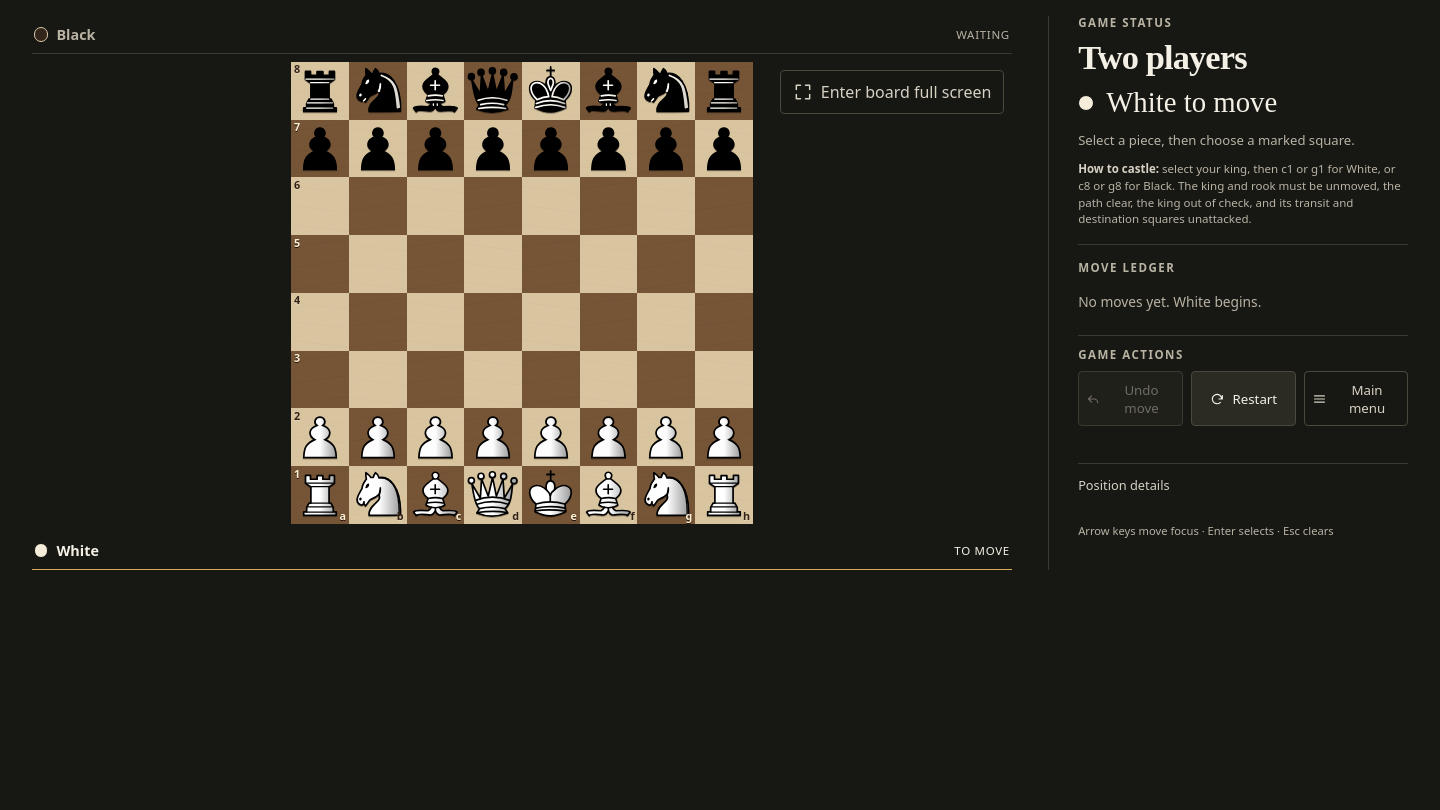
Scenario: two-player game screen › undoes one half-move
Expected: the button "Undo move" is disabled, [1078,371,1183,426]
Click the button named "e2, White pawn" at [551, 437], box [522,408,580,466]
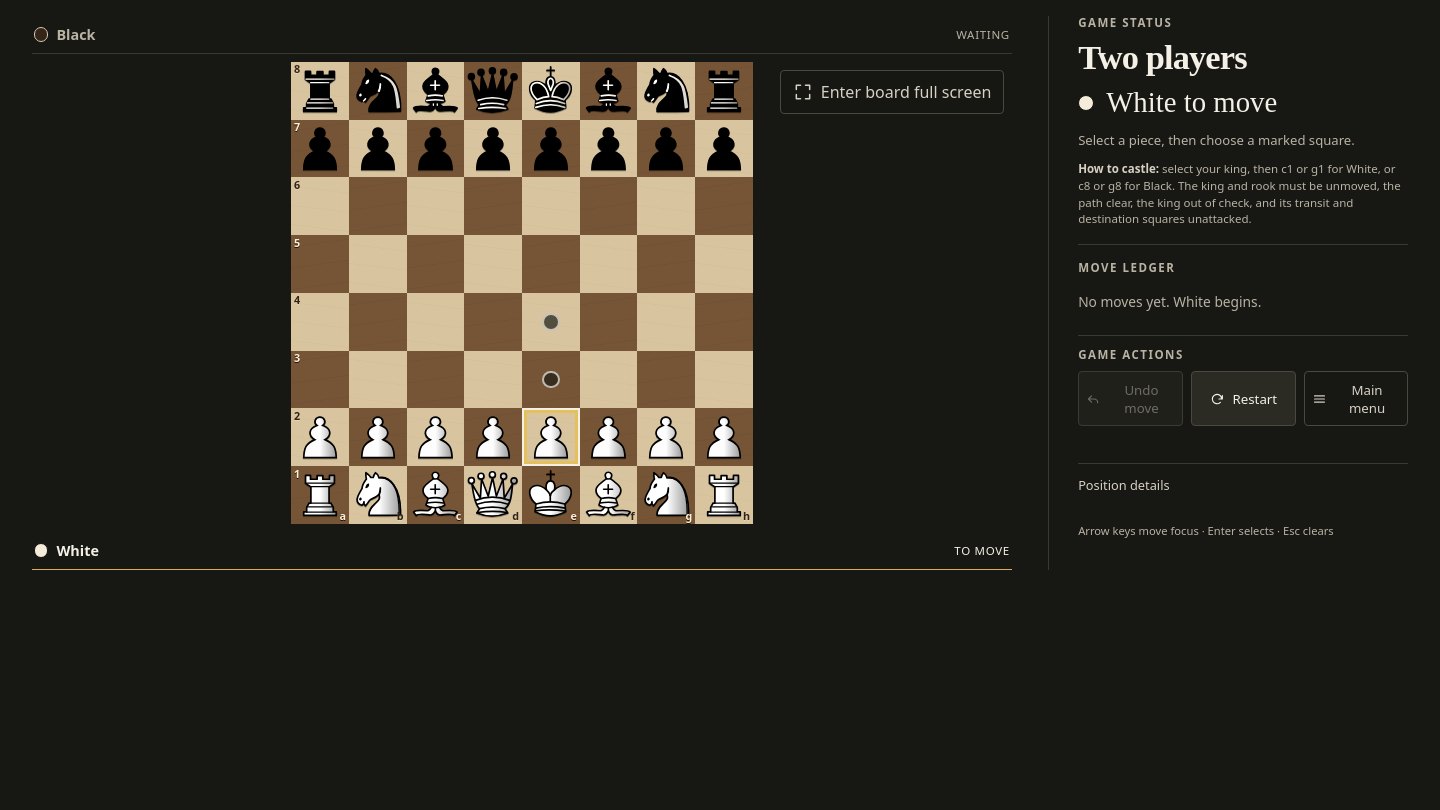
Click the button named "e4, empty" at [551, 322], box [522,293,580,351]
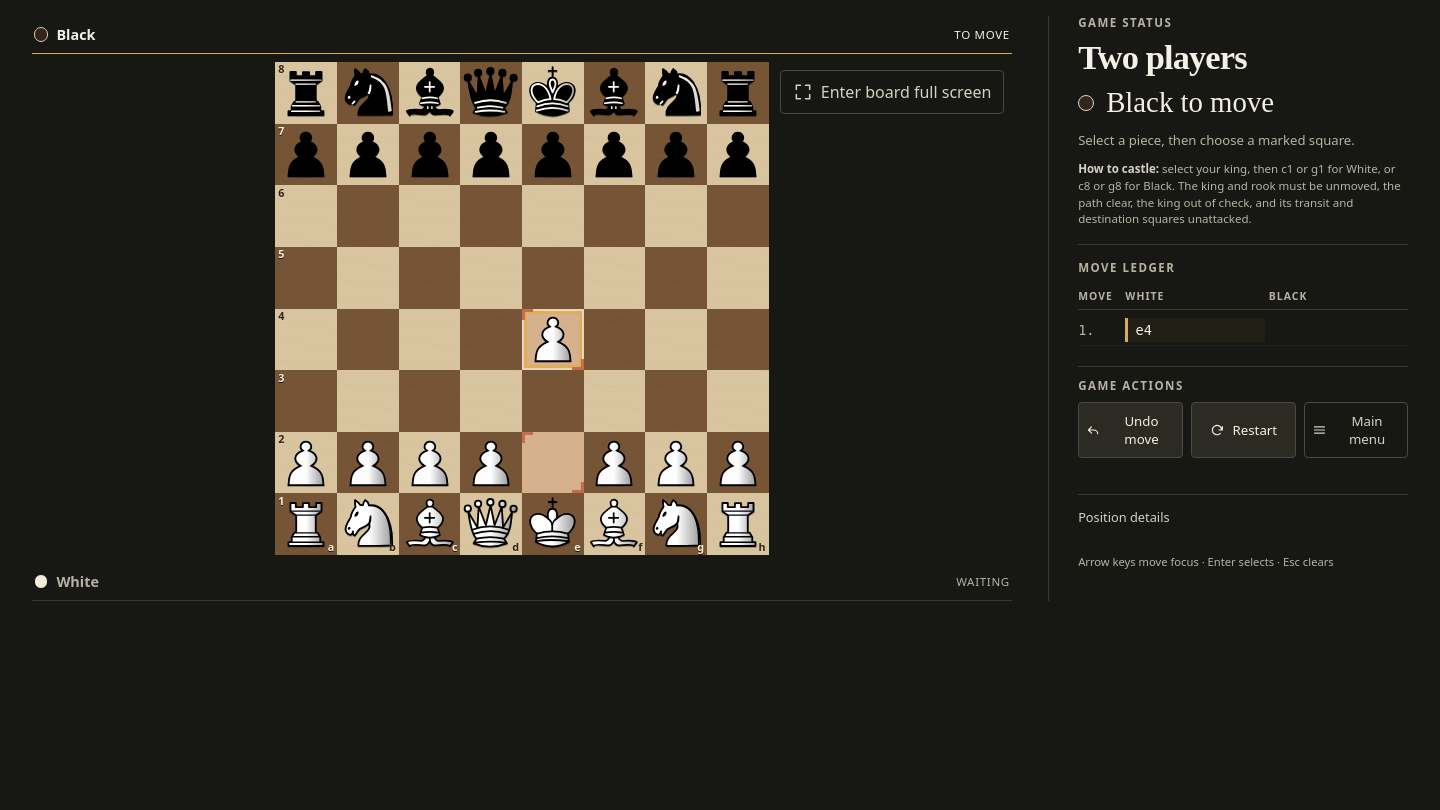
Click the button "Undo move" at [1130, 430], box [1078,402,1183,458]
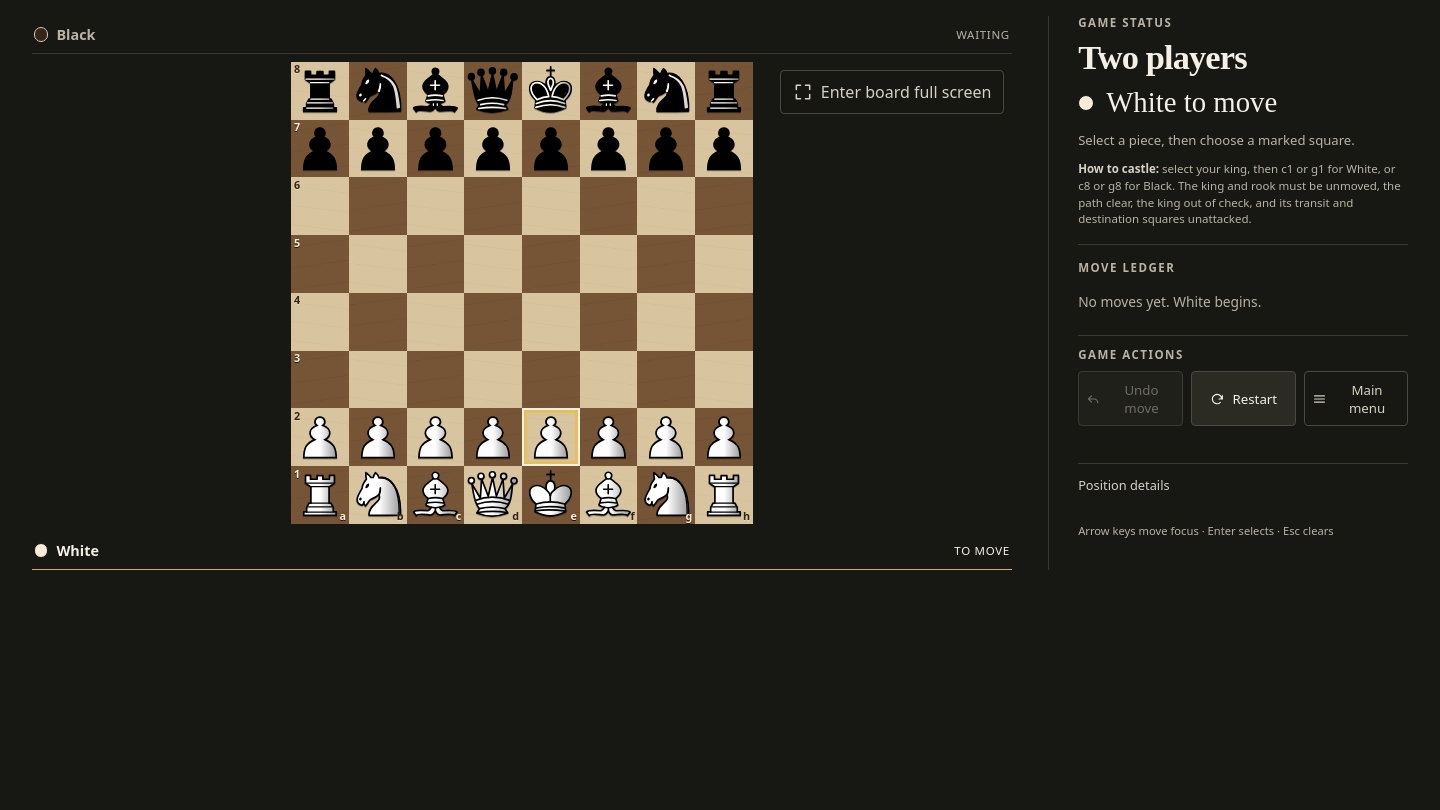
Expected: the text "No moves yet." is shown, [1078,292,1170,311]
Expected: the message reads "White to move", [1106,86,1277,118]
